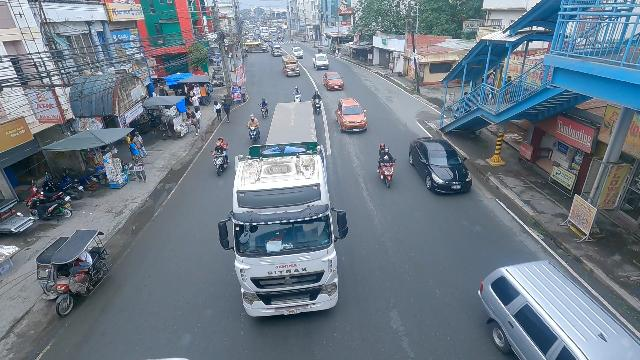car: (479, 261, 640, 360), (410, 137, 472, 192), (336, 98, 368, 131), (291, 46, 304, 59)
jeepney: (282, 54, 301, 78), (323, 71, 344, 90), (244, 41, 270, 53), (270, 44, 283, 57), (263, 34, 271, 43)
motorcycle: (378, 143, 396, 187), (212, 137, 229, 176), (246, 114, 260, 144), (312, 90, 322, 114), (259, 97, 269, 118), (291, 87, 304, 102), (317, 48, 323, 54)
truck: (218, 101, 348, 316), (312, 54, 329, 70)
